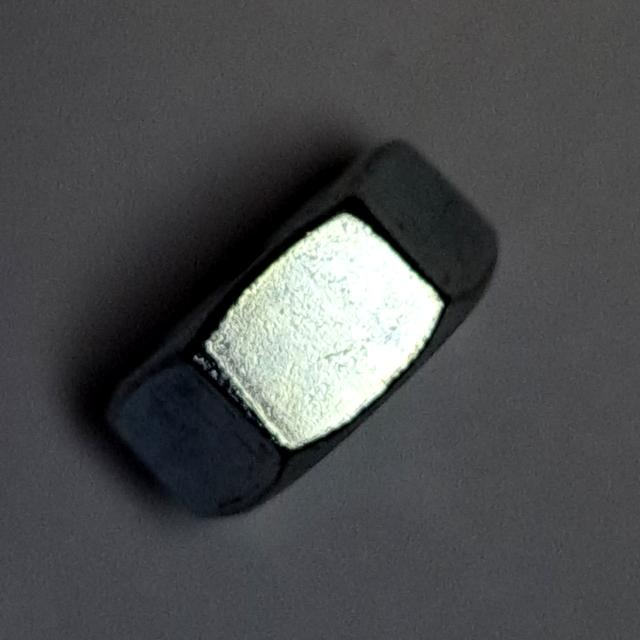Side_Excellent: (92, 124, 510, 527)
